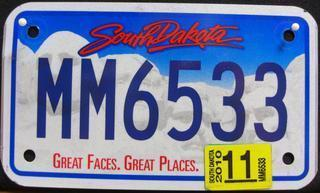placa de veiculo: (5, 5, 311, 184)
